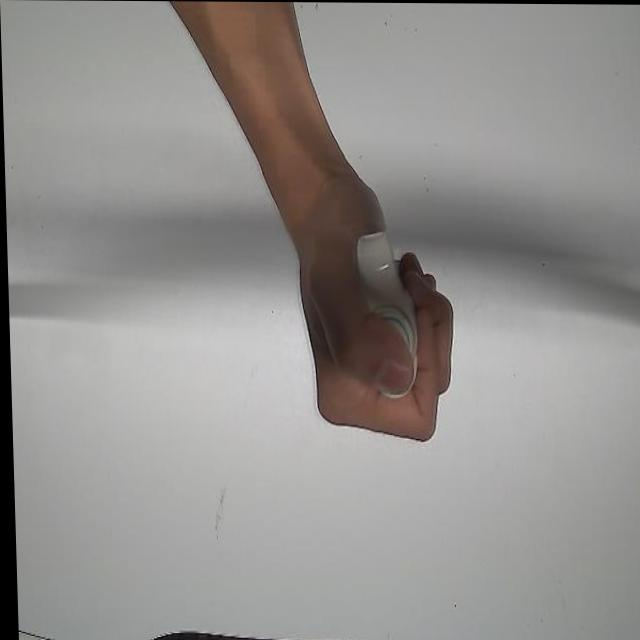Single Channel Pipettor: (346, 225, 425, 402)
